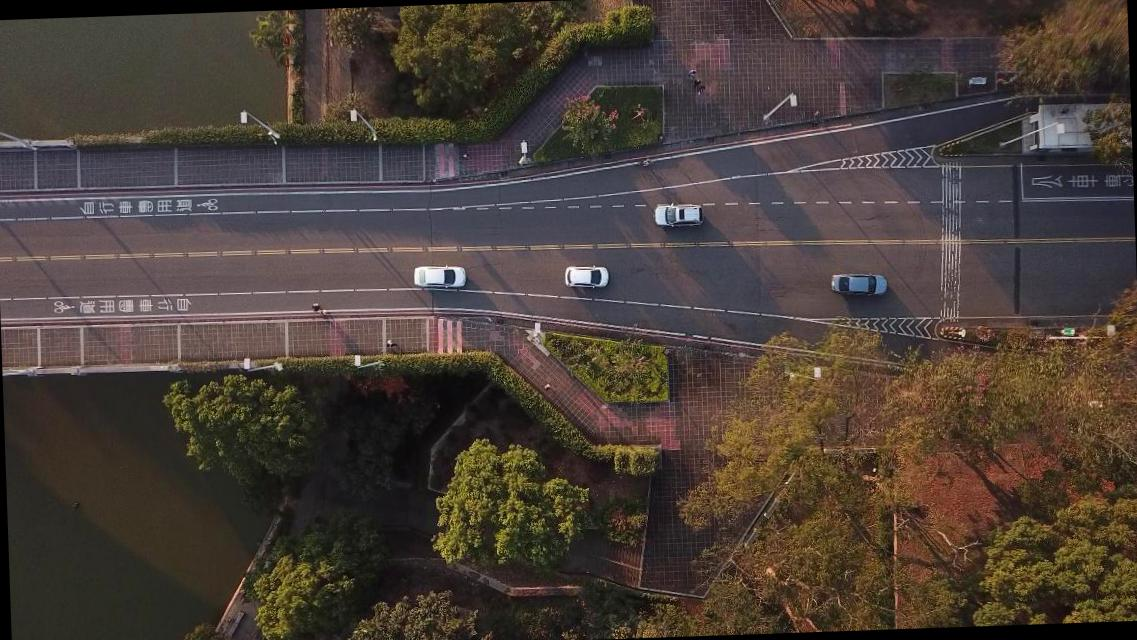vehicle: (830, 270, 888, 297), (652, 199, 703, 228), (413, 264, 466, 290), (563, 264, 609, 290)
